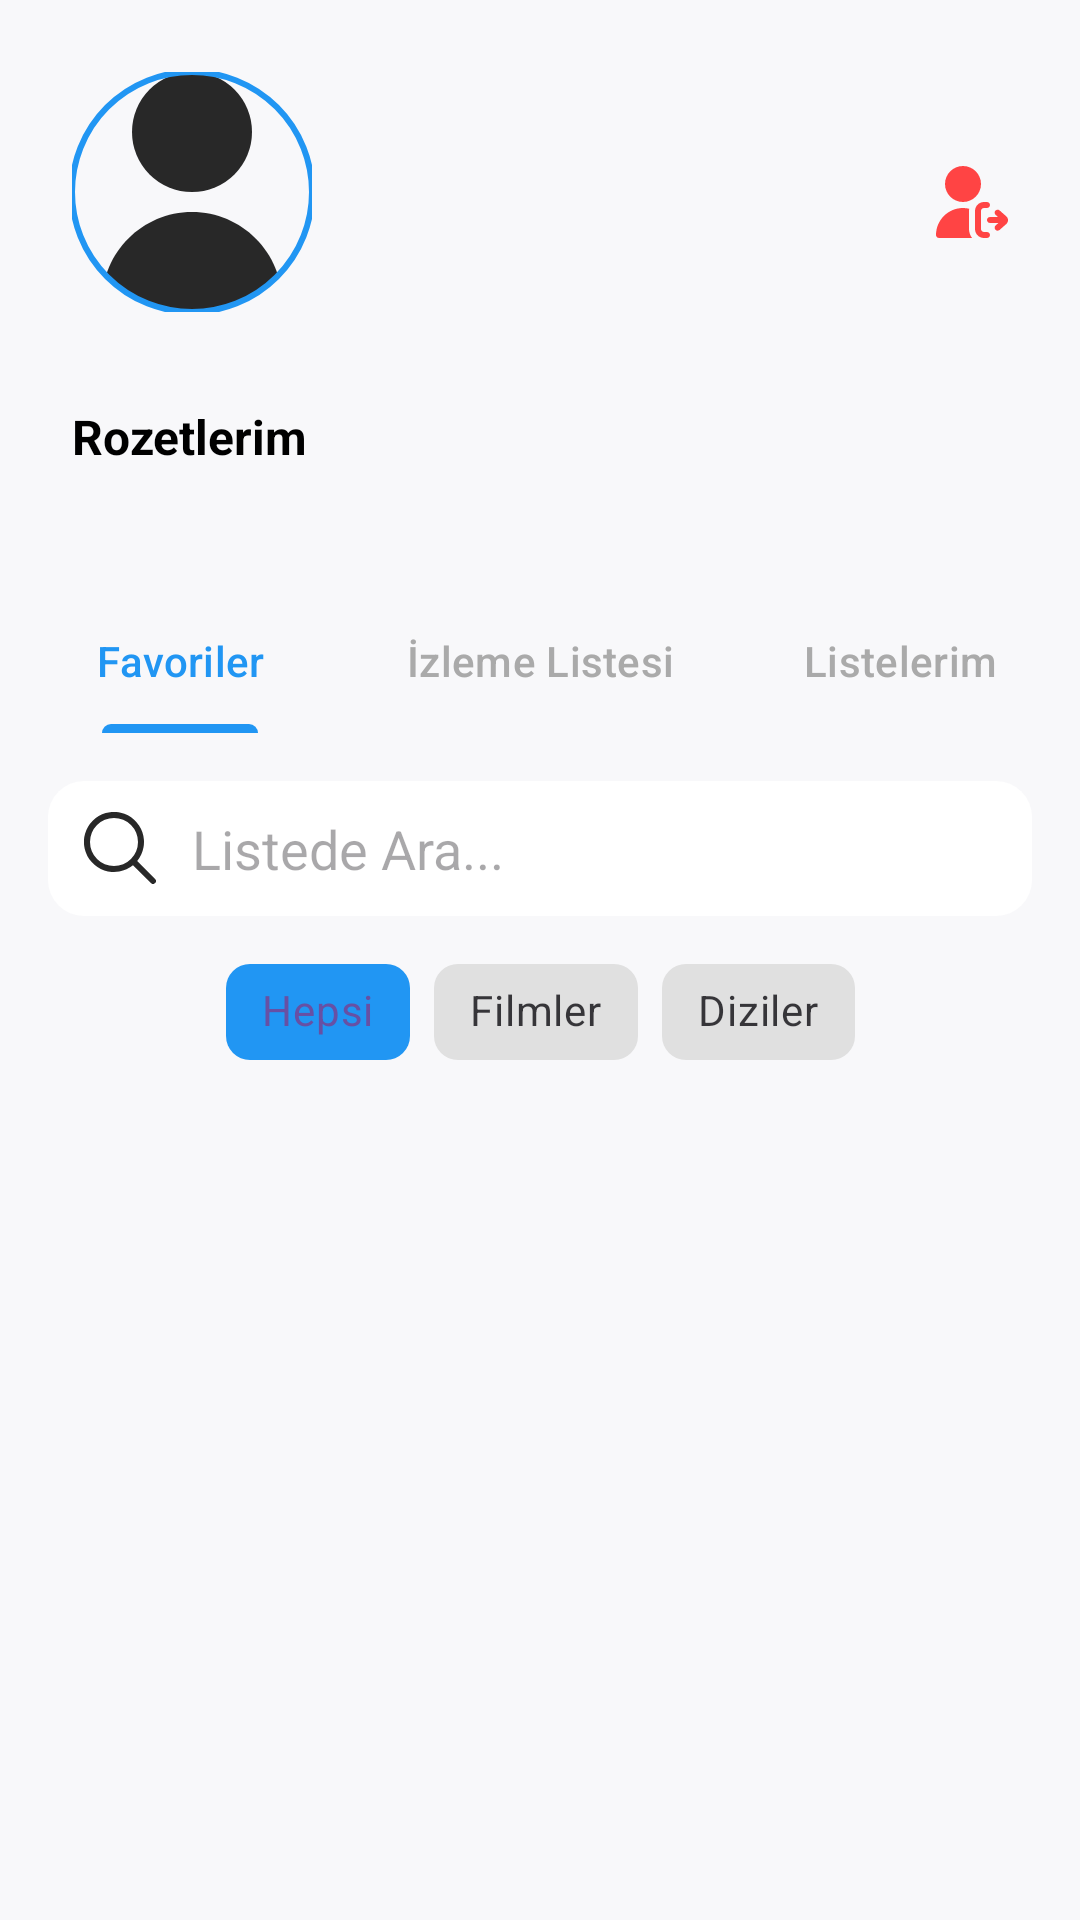

Where to tap for icons on this 1080 × 1920 app screen, as (x,y):
user: (192,192)
